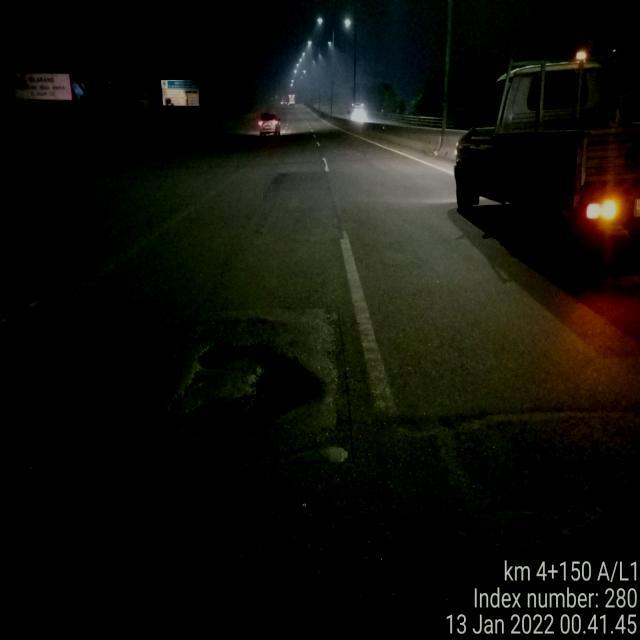Buraco: (171, 334, 332, 426)
